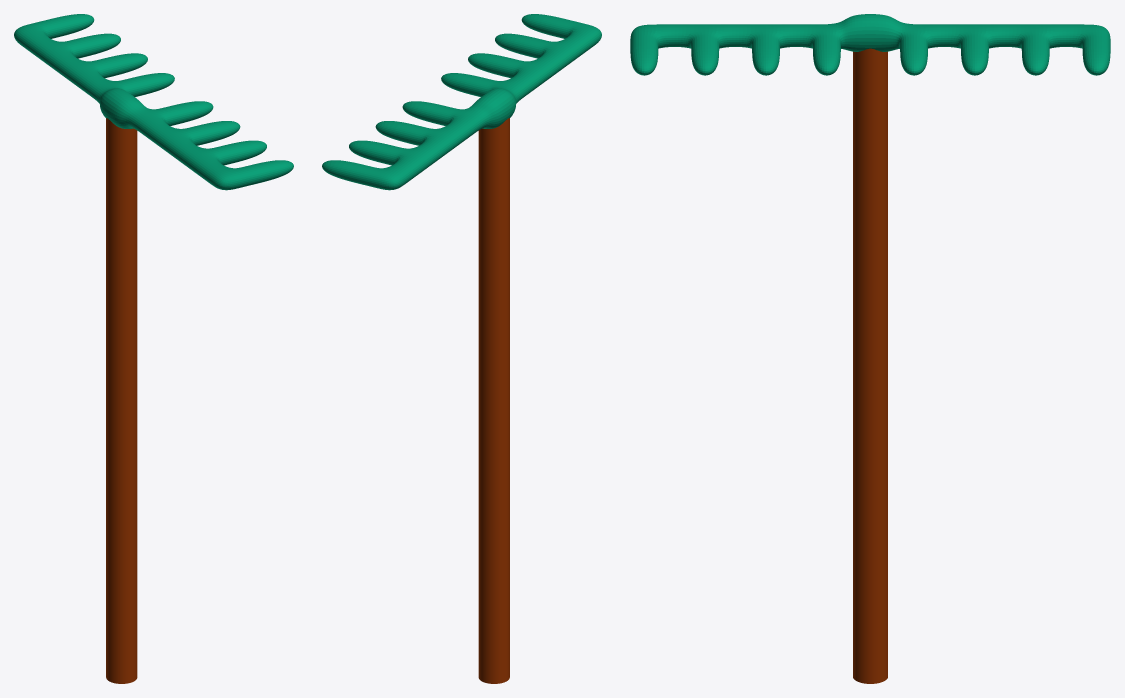
File: Rake.fbx
3 views of the same model, side by side, from view 1: azimuth 30°, elevation 25°; view 2: azimuth 150°, elevation 25°; view 3: azimuth 270°, elevation 25° (orthographic). The views are drawn at different scales.
Visible parts, largest first — view 1: Rake; view 2: Rake; view 3: Rake.
Part boxes in pixels (x1=…): Rake: x1=14, y1=14, x2=293, y2=683; Rake: x1=322, y1=14, x2=601, y2=683; Rake: x1=630, y1=14, x2=1110, y2=683.
Size of the model in its own units: 1.35 by 0.3178 by 2.05.
